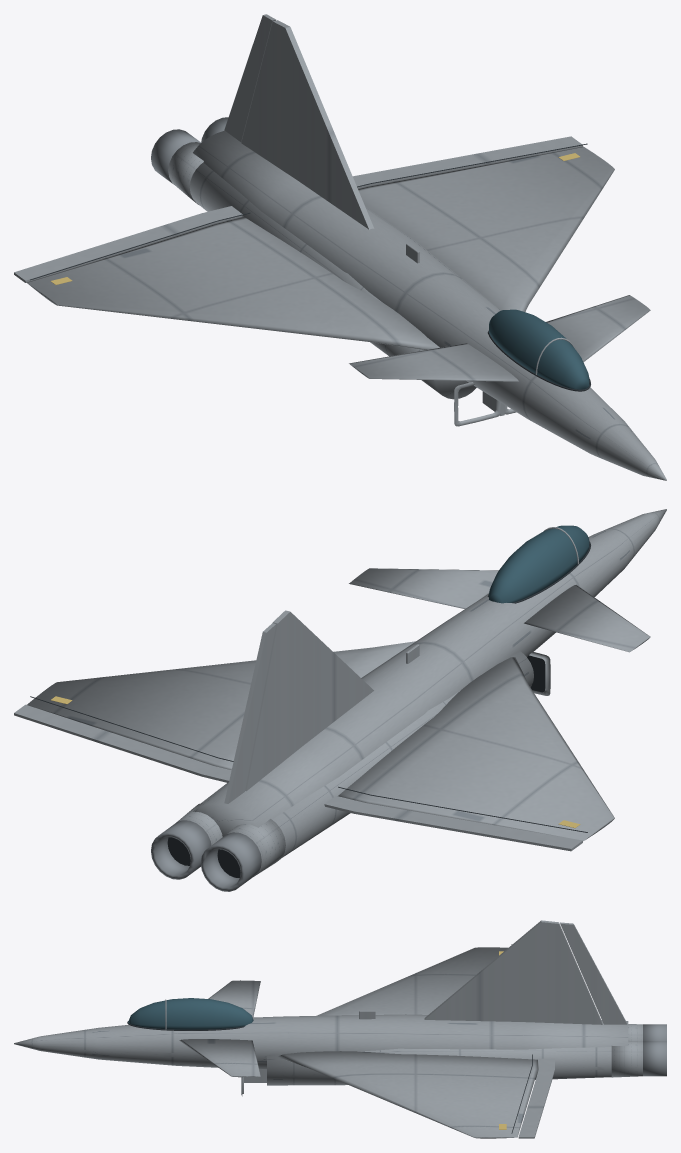
Rendered from eurofighter-typhoon.glb.
3 renders of one model, top to bottom at view 1: azimuth 30°, elevation 25°; view 2: azimuth 150°, elevation 25°; view 3: azimuth 270°, elevation 25°, orthographic. The views are drawn at different scales.
Visible parts, largest first — view 1: airframe_static, canopy, canard_L, canard_R, elevon_L, elevon_R, rudder_1; view 2: airframe_static, canopy, canard_L, canard_R, elevon_L, elevon_R, rudder_1; view 3: airframe_static, canopy, canard_R, rudder_1, elevon_R, canard_L.
Part boxes in pixels (left/top/right/bottom): airframe_static: left=26, top=20, right=666, bottom=480; canopy: left=487, top=309, right=590, bottom=391; canard_L: left=349, top=343, right=518, bottom=381; canard_R: left=546, top=295, right=650, bottom=362; elevon_L: left=14, top=206, right=242, bottom=282; elevon_R: left=353, top=136, right=582, bottom=188; rudder_1: left=224, top=14, right=275, bottom=142; airframe_static: left=27, top=509, right=666, bottom=891; canopy: left=487, top=525, right=590, bottom=603; canard_L: left=524, top=584, right=650, bottom=652; canard_R: left=349, top=568, right=498, bottom=608; elevon_L: left=324, top=796, right=582, bottom=851; elevon_R: left=14, top=704, right=231, bottom=782; rudder_1: left=224, top=623, right=276, bottom=803; airframe_static: left=14, top=920, right=666, bottom=1138; canopy: left=127, top=998, right=253, bottom=1030; canard_R: left=179, top=1039, right=260, bottom=1077; rudder_1: left=560, top=922, right=627, bottom=1024; elevon_R: left=518, top=1058, right=554, bottom=1138; canard_L: left=208, top=980, right=260, bottom=1017.
Size of the model in its own units: 10.95 by 4.35 by 15.95.
Materials: 5 (1 with a texture image).
